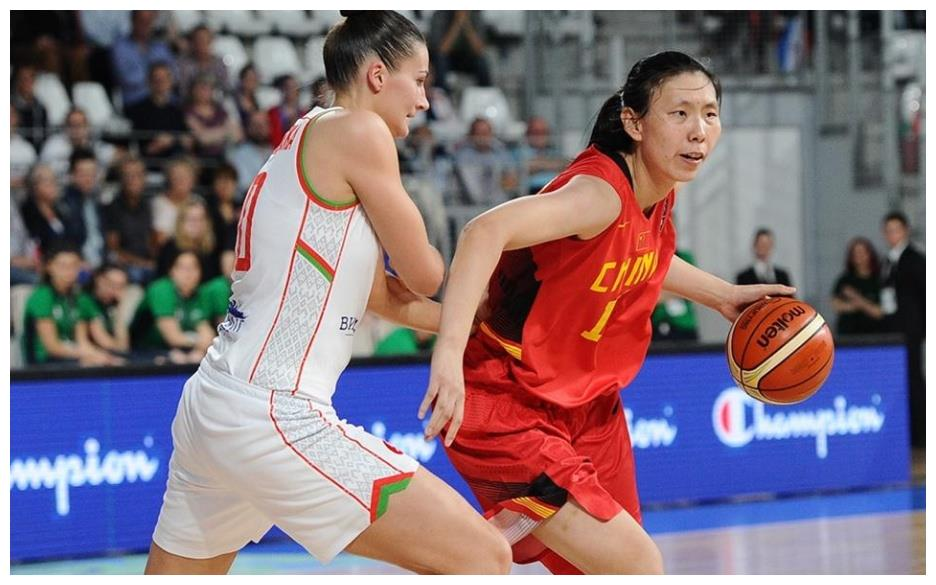ball: (727, 297, 837, 405)
